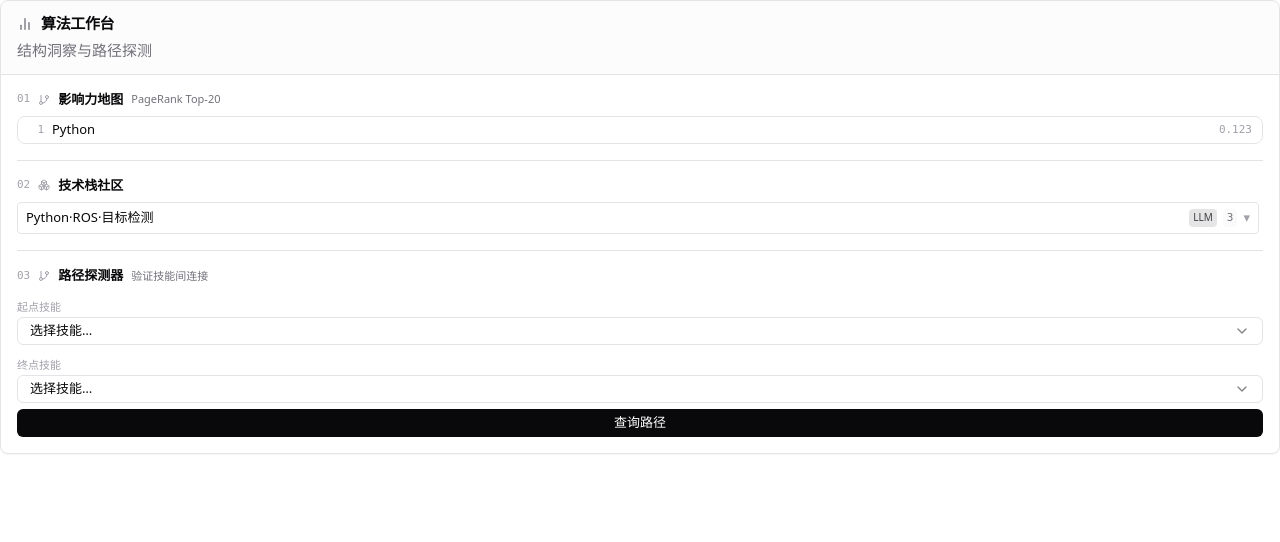
Test case: GraphAnalysisPanel › 展开簇展示 LLM rationale 与建议拆分
This screenshot has width=1280, height=542.
Step 1. Click the text "Python·ROS·目标检测" → click(90, 218), box x1=26 y1=210 x2=154 y2=227
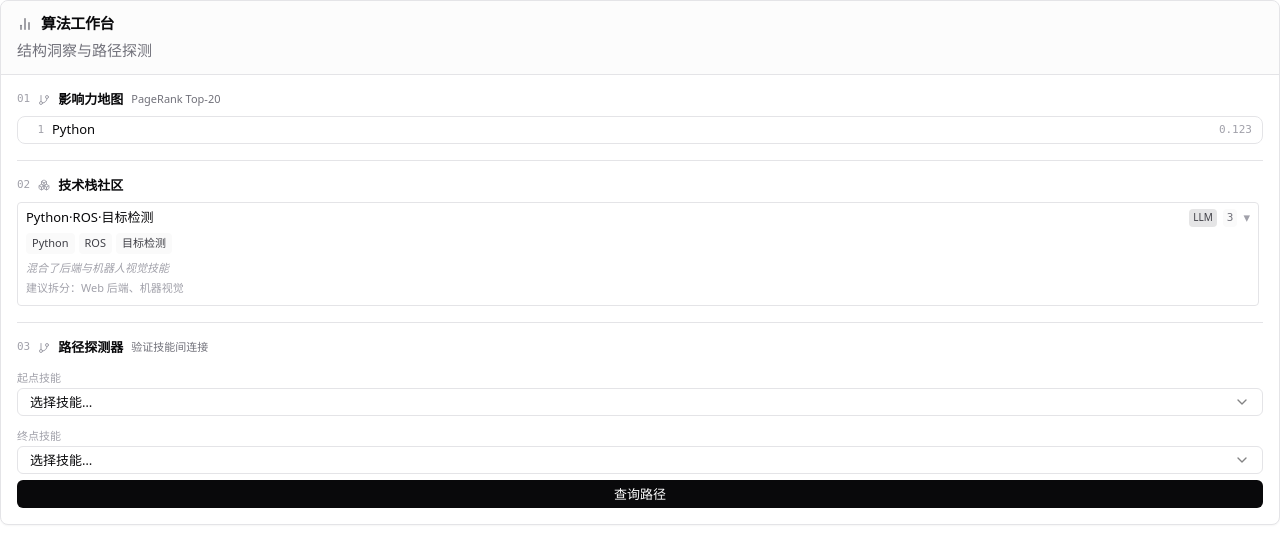
Expected: the text "混合了后端与机器人视觉技能" is shown, x1=26 y1=260 x2=169 y2=275
Expected: the text "建议拆分：Web 后端、机器视觉" is shown, x1=26 y1=280 x2=184 y2=296
